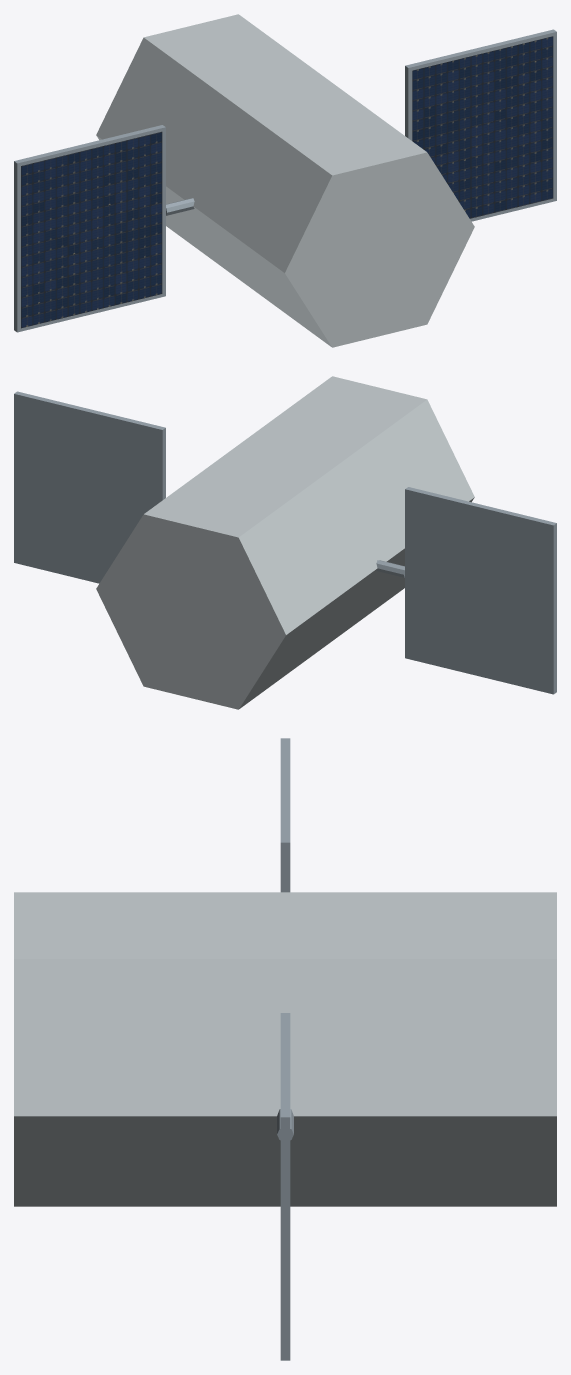
Rendered from ref-bcp-5000-32060.glb.
3 renders of one model, top to bottom at view 1: azimuth 30°, elevation 25°; view 2: azimuth 150°, elevation 25°; view 3: azimuth 270°, elevation 25°, orthographic. The views are drawn at different scales.
Parts seen in each view (by area): view 1: Spacecraft body, Photovoltaic laminates (×2), Array frame (×2); view 2: Spacecraft body, Array frame (×2); view 3: Spacecraft body, Array frame (×2).
Boxes of the visible parts, x1,y1,x2,y2 form: Spacecraft body: (96, 14, 474, 347); Photovoltaic laminates (×2): (21, 36, 553, 328); Array frame (×2): (14, 29, 556, 332); Spacecraft body: (96, 376, 474, 709); Array frame (×2): (14, 391, 556, 694); Spacecraft body: (14, 892, 556, 1206); Array frame (×2): (280, 738, 290, 1360).
Size of the model in its own units: 7.1 by 2.17 by 4.3.
3 materials, 1 textured.
